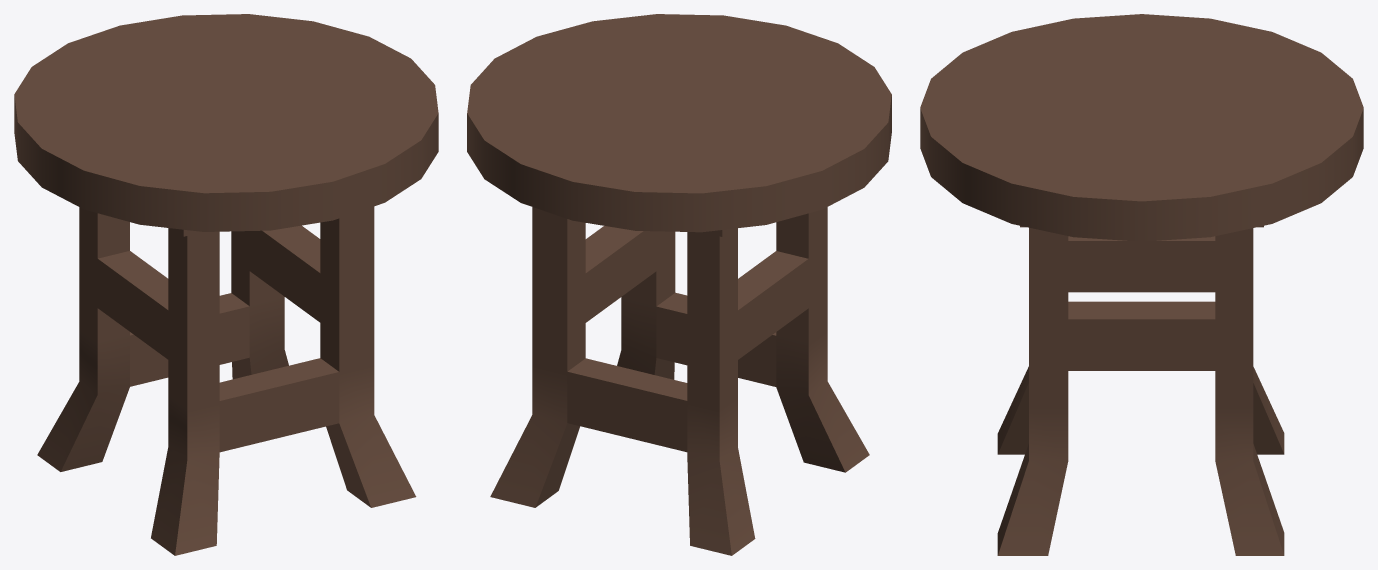
Rendered from Stool.fbx.
3 views of the same model, side by side, from view 1: azimuth 30°, elevation 25°; view 2: azimuth 150°, elevation 25°; view 3: azimuth 270°, elevation 25° (orthographic). The views are drawn at different scales.
Parts seen in each view (by area): view 1: pCylinder2; view 2: pCylinder2; view 3: pCylinder2.
Boxes of the visible parts, <box> form: pCylinder2: <box>14,14,438,555</box>; pCylinder2: <box>467,14,891,555</box>; pCylinder2: <box>920,14,1363,555</box>.
Bounding box in the file's own units: 83.47 × 80.35 × 83.47.
